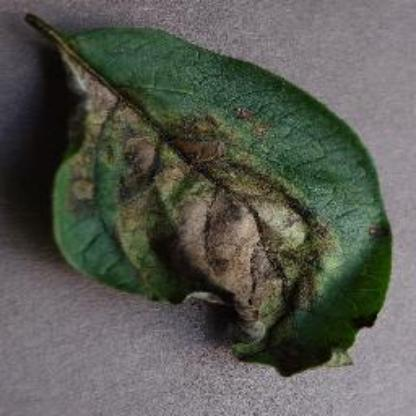Late-Blight: (15, 10, 396, 390)
